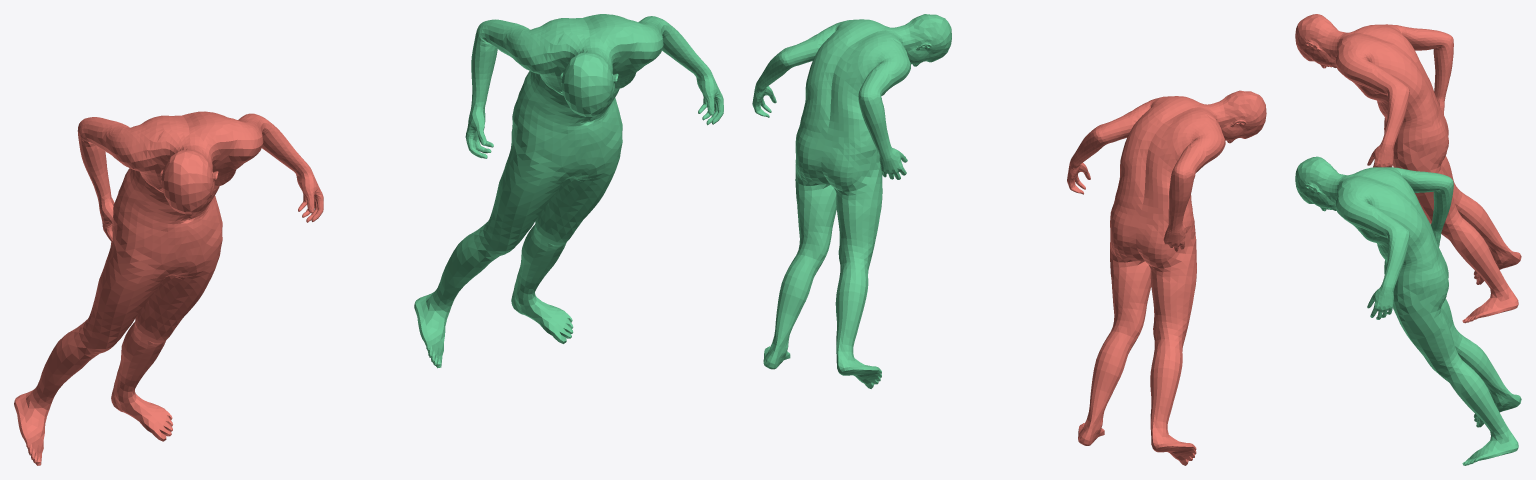
File: pose_471_before_after.glb
3 renders of one model, left to right at view 1: azimuth 30°, elevation 25°; view 2: azimuth 150°, elevation 25°; view 3: azimuth 270°, elevation 25°, orthographic. The views are drawn at different scales.
Visible parts, largest first — view 1: poseshield_green, input_red; view 2: poseshield_green, input_red; view 3: poseshield_green, input_red.
Part boxes in pixels (bbox=[...]): poseshield_green: bbox=[414, 14, 723, 368]; input_red: bbox=[14, 111, 323, 465]; poseshield_green: bbox=[752, 14, 951, 388]; input_red: bbox=[1067, 90, 1266, 465]; poseshield_green: bbox=[1295, 156, 1521, 465]; input_red: bbox=[1295, 14, 1521, 323].
Size of what is drawn, in the model's own units: 2.26 by 1.33 by 0.9662.
